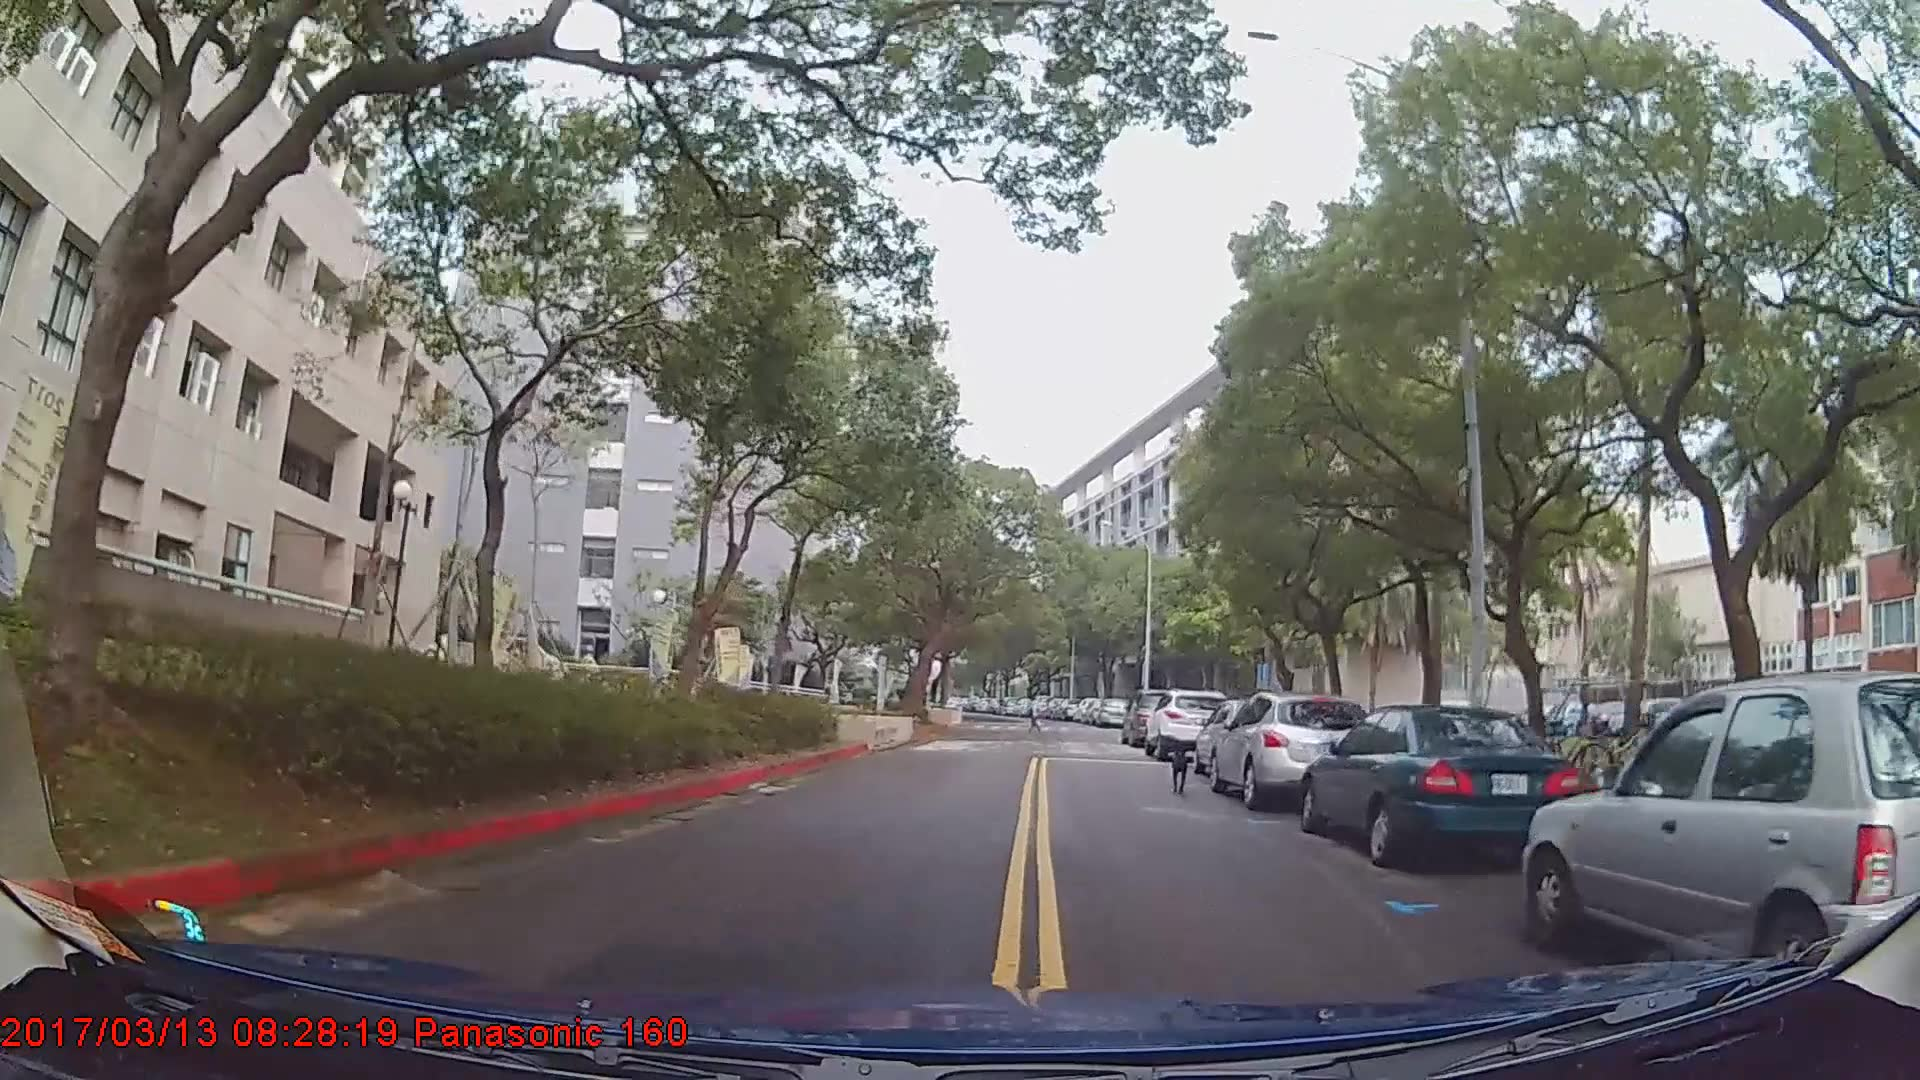pedestrian: (1026, 694, 1046, 734)
vehicle: (1523, 665, 1920, 990), (1299, 706, 1589, 874), (1206, 692, 1375, 817), (1145, 685, 1232, 756), (1093, 693, 1130, 726)
